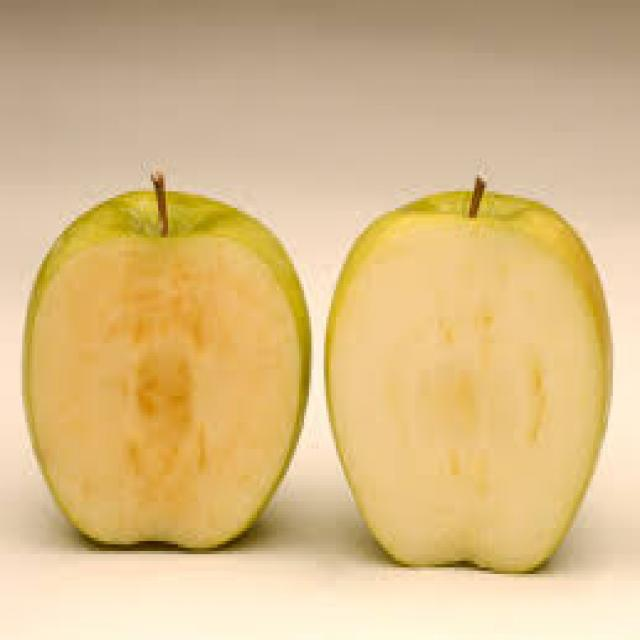organic waste: (324, 172, 610, 564), (17, 168, 309, 548)
